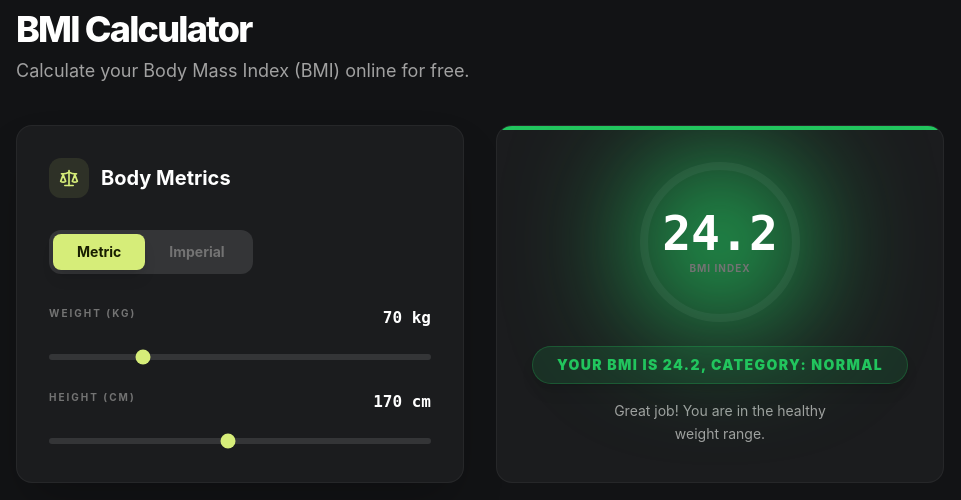
BMICalculator › accepts height input
Set the slider below "170" to "180" at (252, 441), box [49,438,431,444]
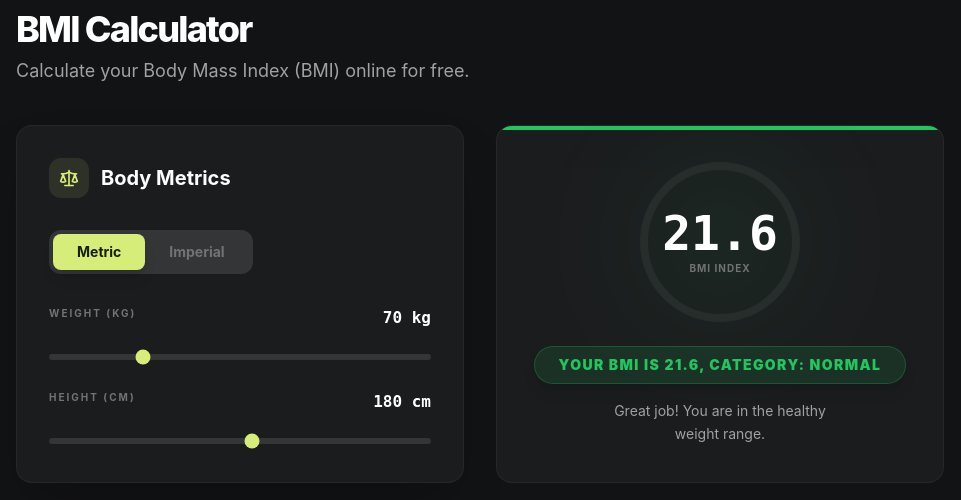
expect the text "180 cm" is shown: met, box [373,390,431,414]
